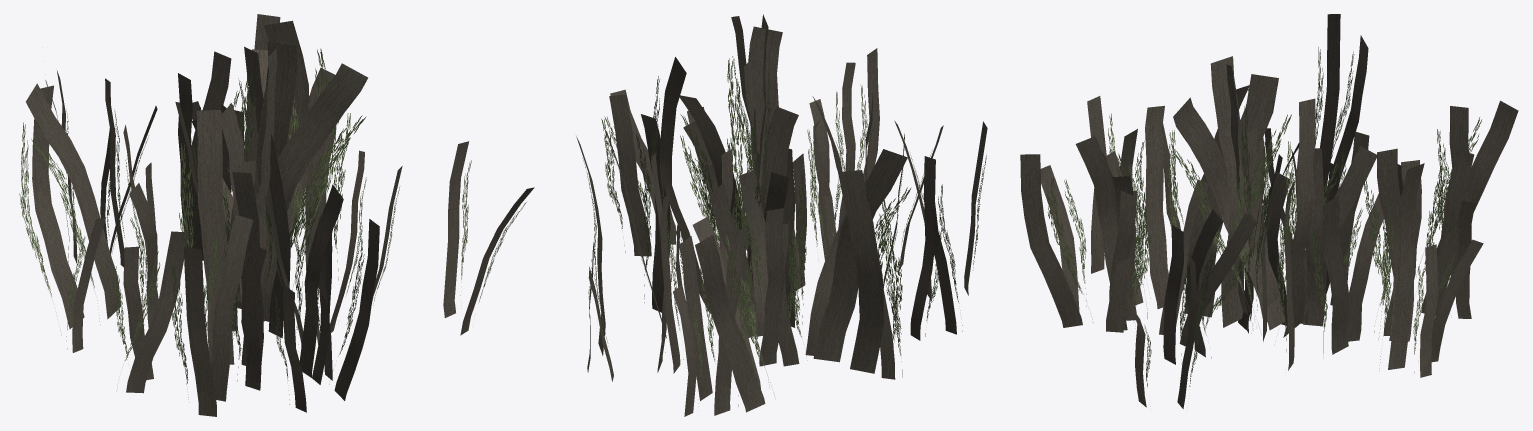
File: Grass.fbx
The picture shows the model from 3 angles, left to right: view 1: azimuth 30°, elevation 25°; view 2: azimuth 150°, elevation 25°; view 3: azimuth 270°, elevation 25°; orthographic projection. The views are drawn at different scales.
Visible parts, largest first — view 1: Grass; view 2: Grass; view 3: Grass.
Part boxes in pixels (x1,y1,x2,y2): Grass: (19, 14, 534, 416); Grass: (576, 14, 987, 416); Grass: (1020, 14, 1518, 408).
Bounding box in the file's own units: 1568 × 1026 × 1628.
